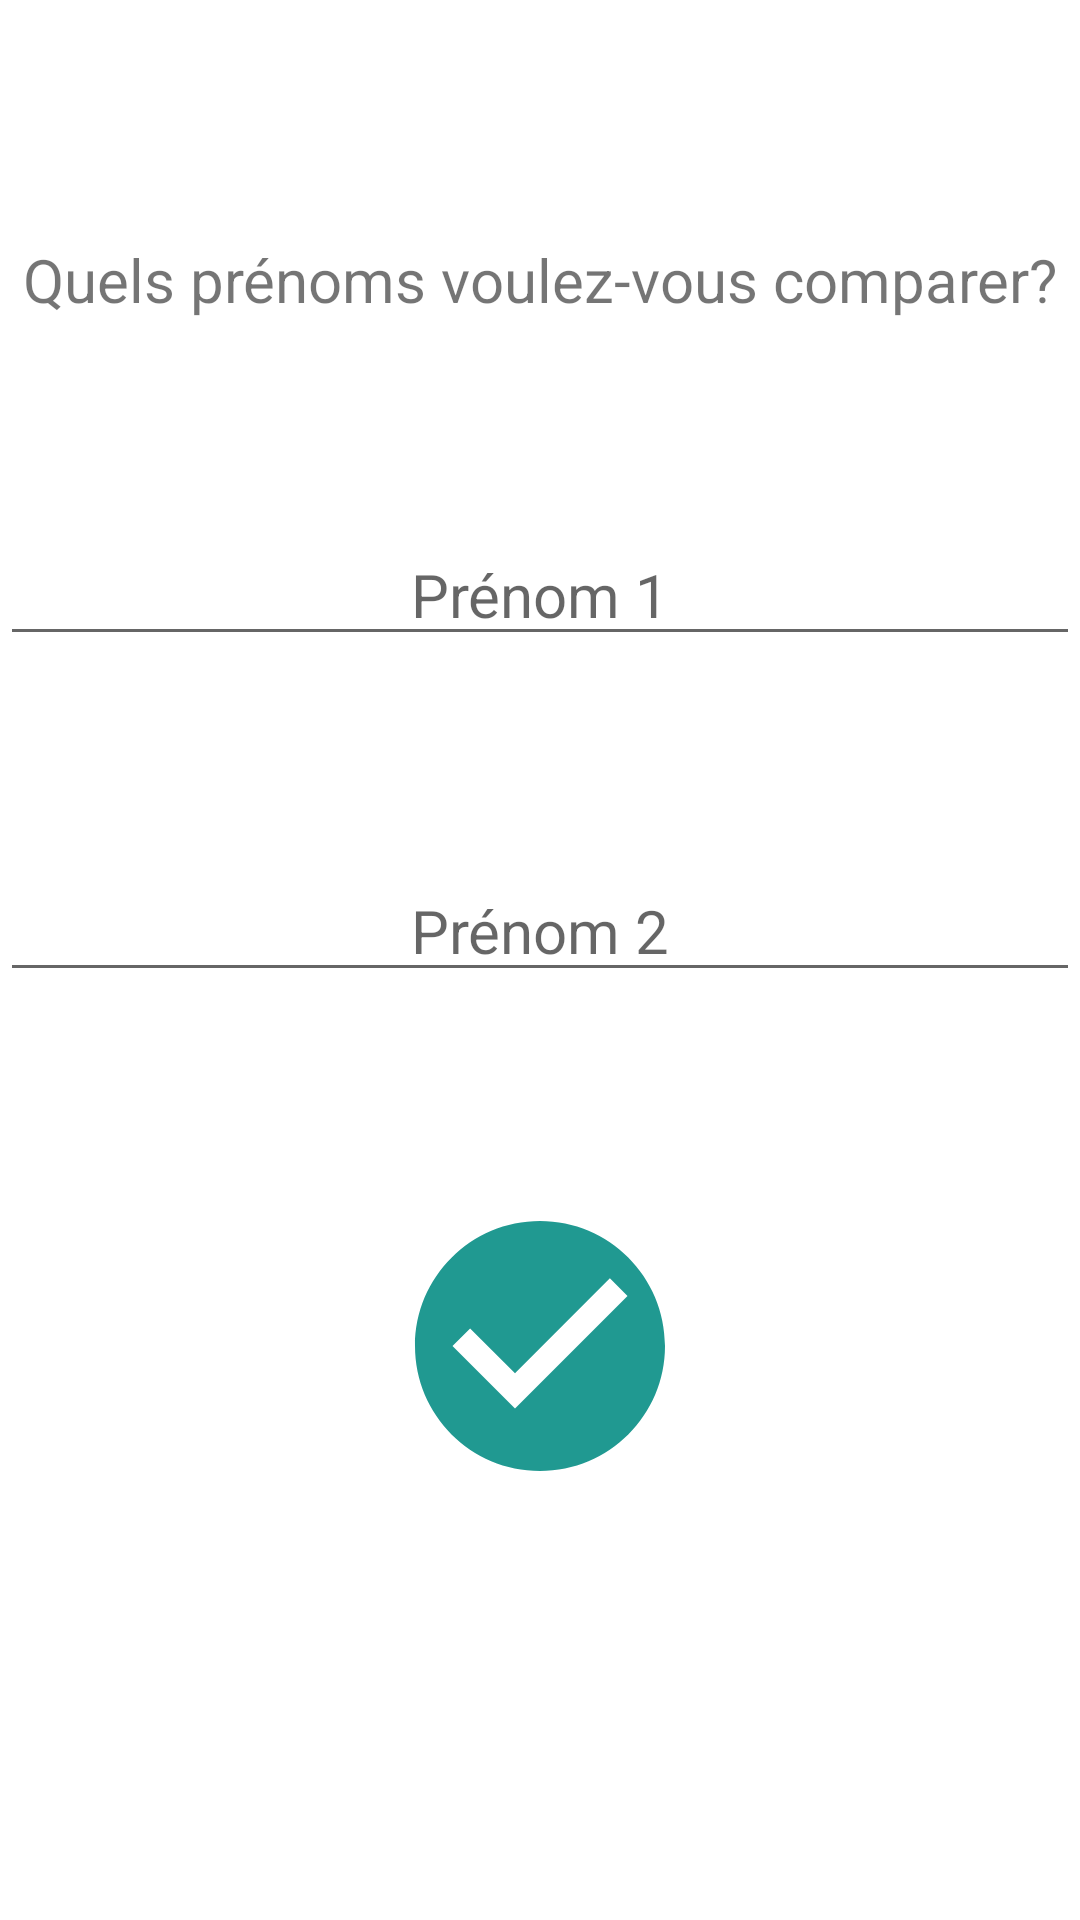

Locate icon controls on the screen. Image size 1080×1920, boxes as [x1,y1,x2,y2].
symbole check: [415,1221,665,1471]
